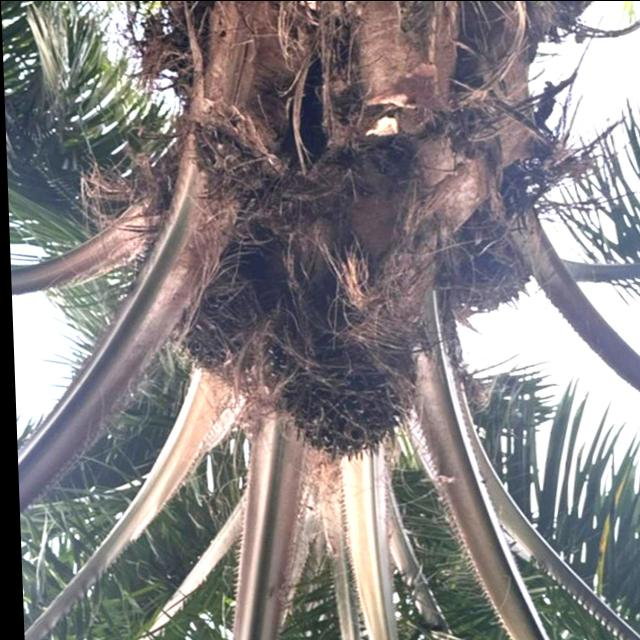unripe: (262, 336, 411, 470)
